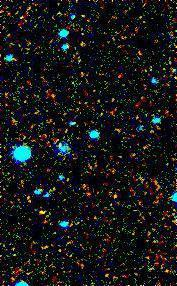star: (28, 194, 58, 224)
